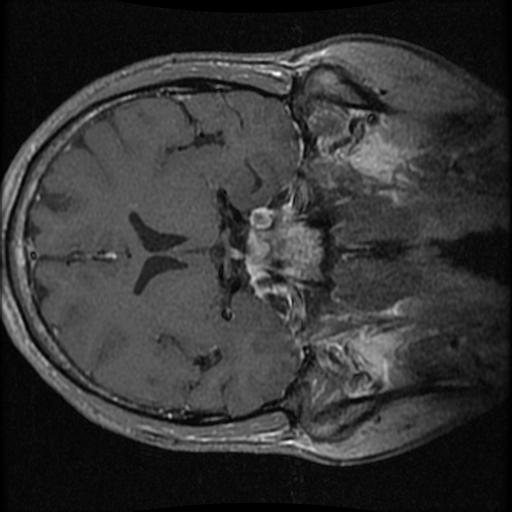pituitary tumour: (246, 231, 267, 267)
